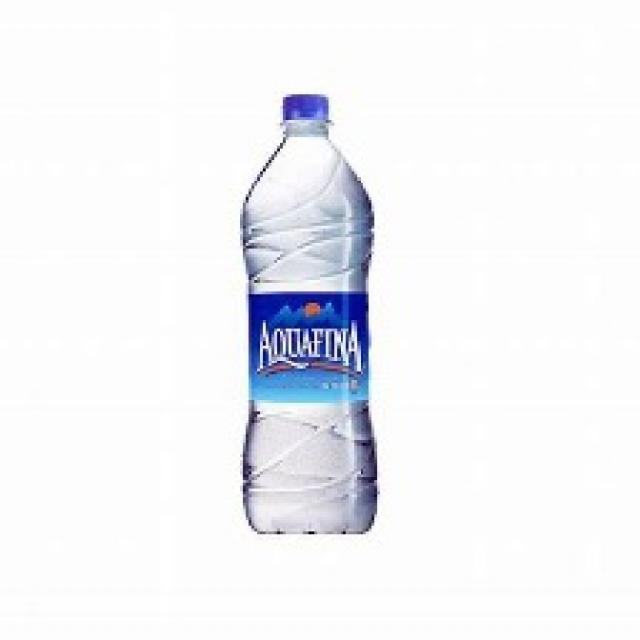plastic_bottle: (231, 92, 387, 546)
